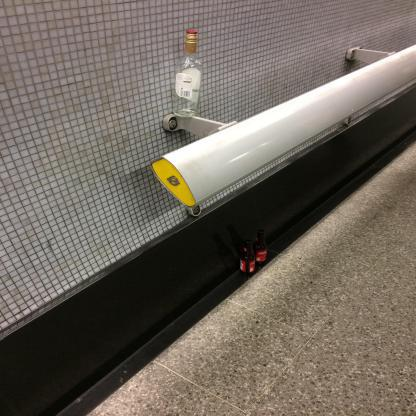cam: (172, 31, 204, 119), (241, 240, 257, 276), (255, 230, 269, 264)
